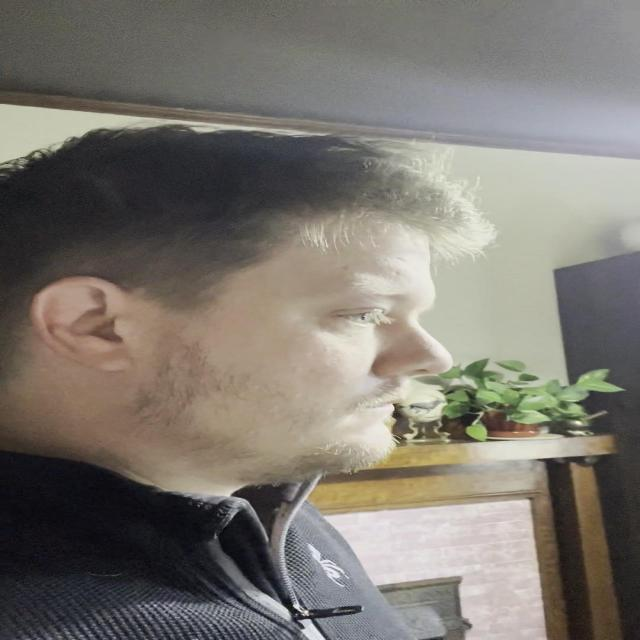no hat: (33, 220, 456, 494)
